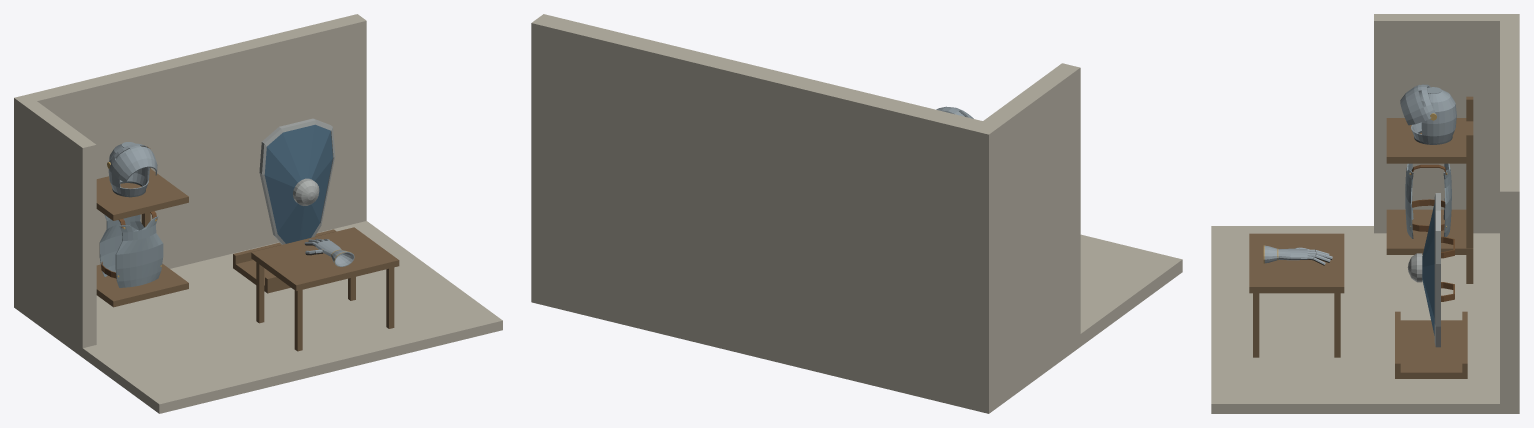
The picture shows the model from 3 angles, left to right: view 1: azimuth 30°, elevation 25°; view 2: azimuth 150°, elevation 25°; view 3: azimuth 270°, elevation 25°; orthographic projection. The views are drawn at different scales.
Visible parts, largest first — view 1: BackWall, Floor, LeftReturn, Shield_WholeConvexPointedShieldBody, InspectionTop, Cuirass_WholeShapedBreastplate, HelmetShelf, CuirassShelf, Shield_WholeFinitePointedPerimeterRim, Helmet_WholeRaisedTwoEyeSlotVisor, Cuirass_WholeShapedBackplate, Helmet_WholeHollowCrownAndOpenFaceShell (+6 smaller); view 2: BackWall, LeftReturn, Floor; view 3: Floor, LeftReturn, BackWall, InspectionTop, ShieldBase, HelmetShelf, CuirassShelf, Helmet_WholeHollowCrownAndOpenFaceShell, ShelfPost0, Shield_WholeFinitePointedPerimeterRim, Shield_WholeConvexPointedShieldBody, Helmet_WholeRaisedTwoEyeSlotVisor (+8 smaller).
Boxes of the visible parts, box(x1,y1,x2,y2) form: BackWall: box(14, 14, 366, 304); Floor: box(14, 221, 502, 413); LeftReturn: box(23, 101, 96, 347); Shield_WholeConvexPointedShieldBody: box(264, 124, 332, 243); InspectionTop: box(251, 227, 399, 291); Cuirass_WholeShapedBreastplate: box(115, 216, 163, 287); HelmetShelf: box(96, 169, 188, 220); CuirassShelf: box(96, 263, 188, 307); Shield_WholeFinitePointedPerimeterRim: box(259, 118, 335, 244); Helmet_WholeRaisedTwoEyeSlotVisor: box(109, 143, 157, 182); Cuirass_WholeShapedBackplate: box(99, 214, 144, 276); Helmet_WholeHollowCrownAndOpenFaceShell: box(108, 144, 149, 195); BackWall: box(531, 14, 1001, 400); LeftReturn: box(983, 63, 1080, 391); Floor: box(531, 234, 1182, 413); Floor: box(1211, 226, 1519, 413); LeftReturn: box(1374, 14, 1499, 233); BackWall: box(1500, 14, 1519, 403); InspectionTop: box(1249, 233, 1344, 293); ShieldBase: box(1395, 320, 1467, 378); HelmetShelf: box(1386, 118, 1473, 163); CuirassShelf: box(1386, 209, 1473, 254); Helmet_WholeHollowCrownAndOpenFaceShell: box(1411, 90, 1456, 143); ShelfPost0: box(1466, 132, 1473, 283); Shield_WholeFinitePointedPerimeterRim: box(1434, 193, 1440, 347); Shield_WholeConvexPointedShieldBody: box(1422, 203, 1434, 335); Helmet_WholeRaisedTwoEyeSlotVisor: box(1400, 84, 1435, 125).
Bounding box in the file's own units: 3 × 1.75 × 2.2.
